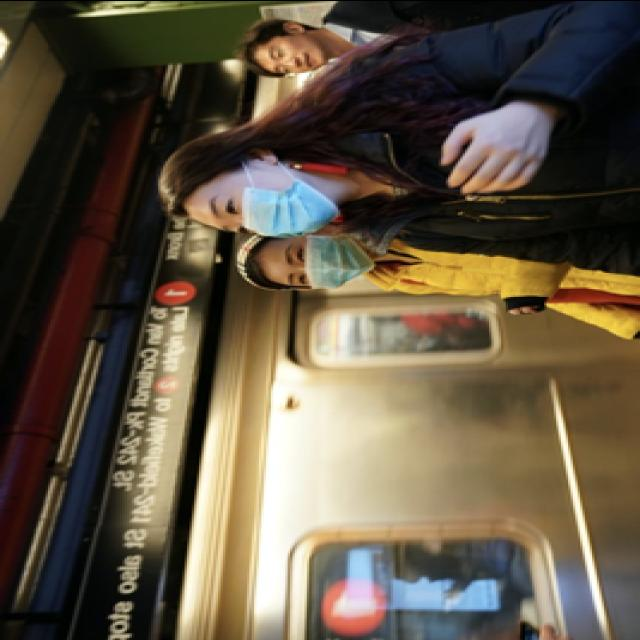with_mask: (204, 166, 340, 236), (281, 232, 378, 290)
without_mask: (262, 34, 324, 74)
